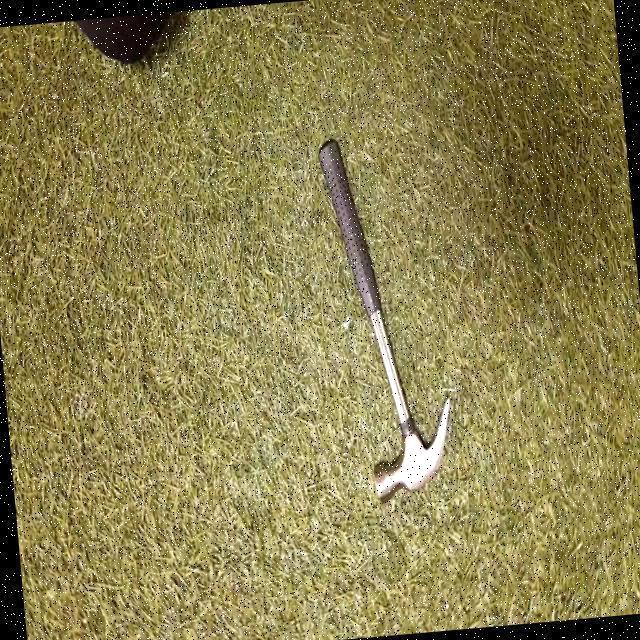hammer: (305, 142, 451, 494)
